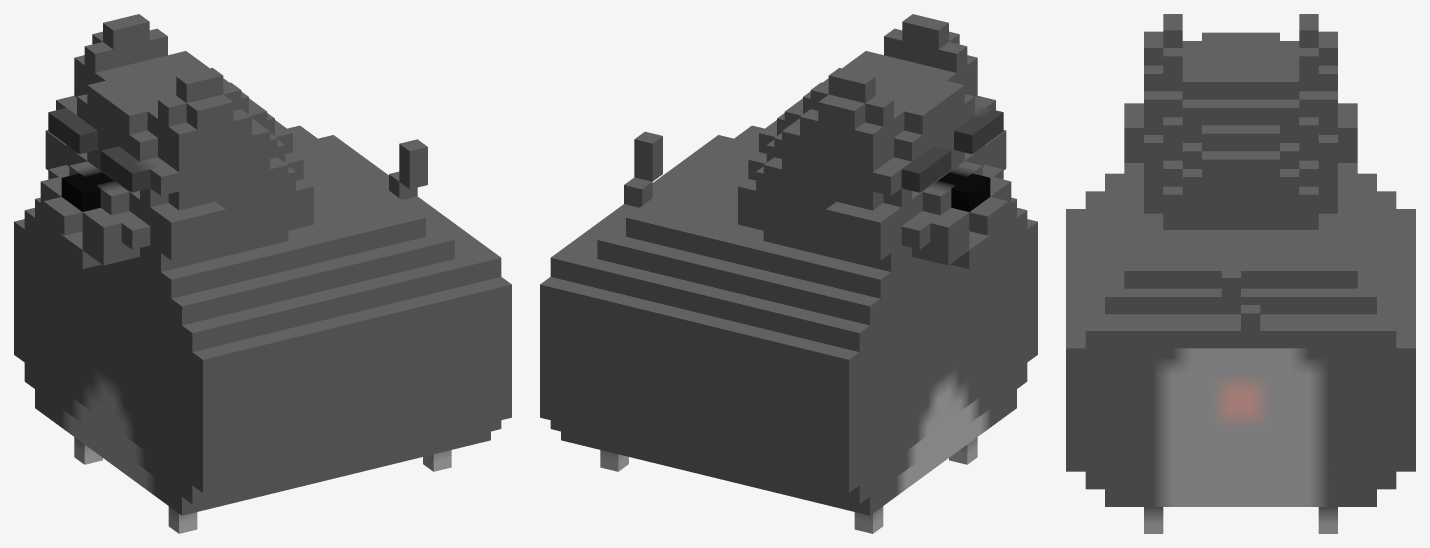
The model's file is FatDog.dae.
3 views of the same model, side by side, from view 1: azimuth 30°, elevation 25°; view 2: azimuth 150°, elevation 25°; view 3: azimuth 270°, elevation 25° (orthographic). The views are drawn at different scales.
Visible parts, largest first — view 1: Matrix; view 2: Matrix; view 3: Matrix.
Part boxes in pixels (x1,y1,x2,y2): Matrix: (14, 14, 511, 533); Matrix: (540, 14, 1037, 533); Matrix: (1066, 14, 1415, 533).
Bounding box in the file's own units: 20 × 23 × 18.
1 material, 1 textured.
